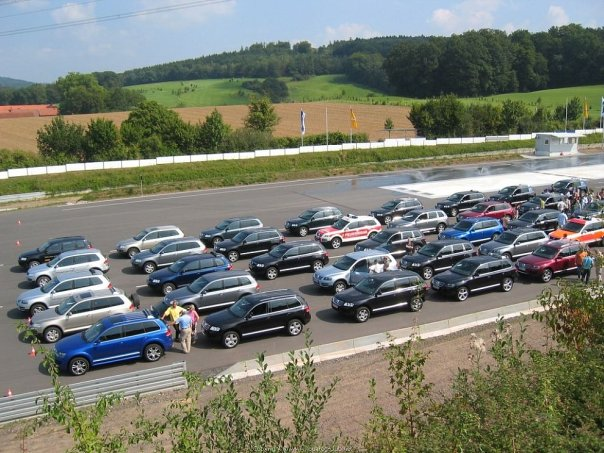Car: (53, 308, 173, 376), (201, 287, 311, 349), (29, 289, 141, 344), (331, 270, 429, 323), (16, 269, 113, 316), (430, 255, 517, 302), (312, 247, 399, 294), (163, 270, 262, 310), (146, 252, 233, 295), (249, 240, 330, 280), (26, 248, 110, 286), (398, 240, 477, 280), (130, 236, 208, 274), (515, 239, 580, 283), (18, 235, 93, 269), (213, 228, 285, 262), (315, 213, 382, 249), (478, 228, 549, 260), (116, 225, 184, 258), (354, 228, 427, 257), (200, 216, 264, 247), (437, 216, 505, 243), (284, 206, 343, 237), (548, 218, 604, 247), (387, 209, 448, 234), (368, 198, 424, 224), (508, 208, 560, 235), (435, 190, 485, 216), (456, 201, 516, 222), (519, 194, 561, 217), (488, 185, 536, 205)
